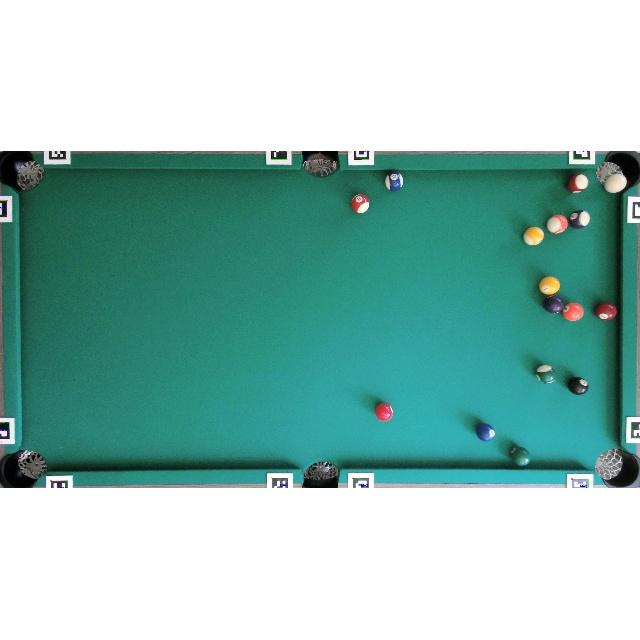cue ball: (604, 173, 627, 193)
other: (594, 302, 618, 321), (547, 214, 569, 234), (562, 302, 584, 322), (567, 173, 589, 193), (539, 276, 560, 296), (568, 210, 590, 229), (524, 226, 544, 246), (476, 422, 496, 442), (536, 364, 556, 384), (510, 445, 529, 466), (351, 194, 370, 213), (544, 296, 564, 314), (385, 171, 403, 191), (375, 402, 393, 422), (568, 377, 588, 395)
